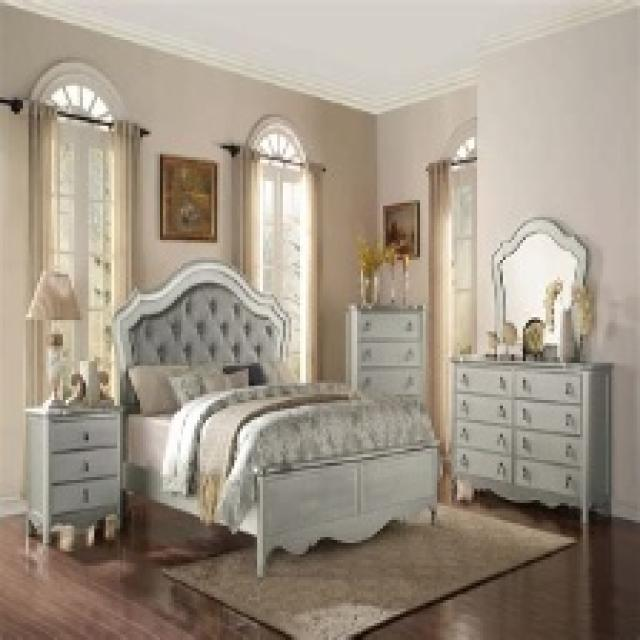Bed: (109, 257, 440, 577)
